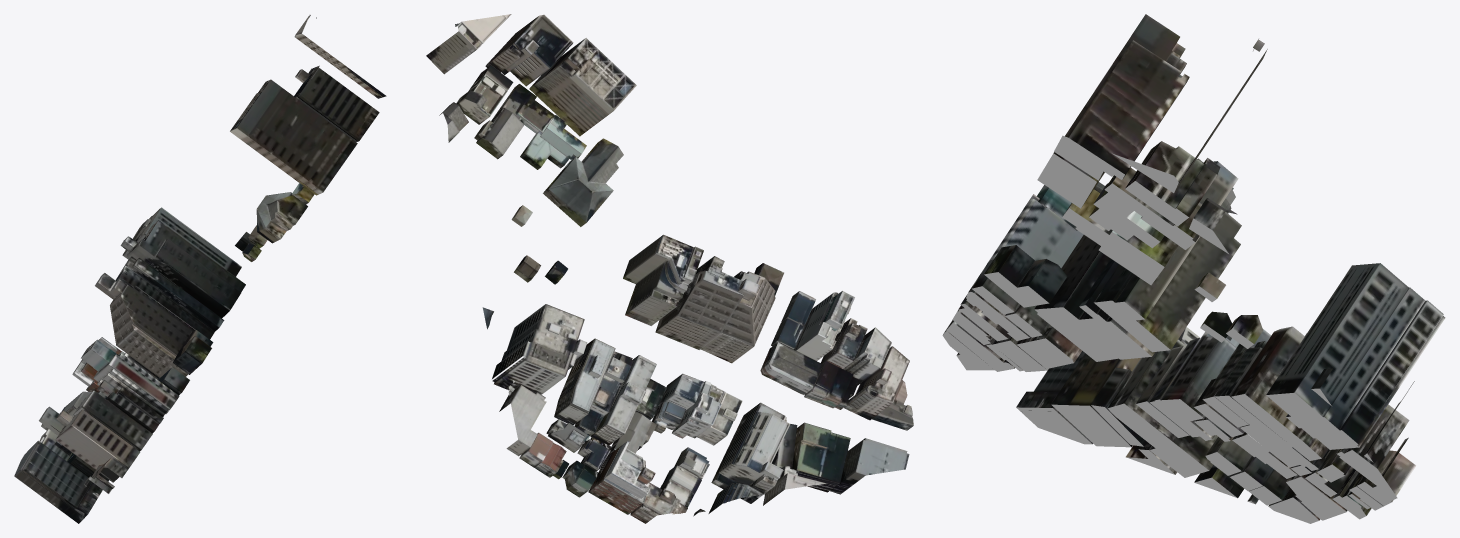
File: 39520_bldg_Building.glb
3 renders of one model, left to right at view 1: azimuth 30°, elevation 25°; view 2: azimuth 150°, elevation 25°; view 3: azimuth 270°, elevation 25°, orthographic. The views are drawn at different scales.
Size of the model in its own units: 158 by 145 by 105.
Materials: 3 (2 with a texture image).
